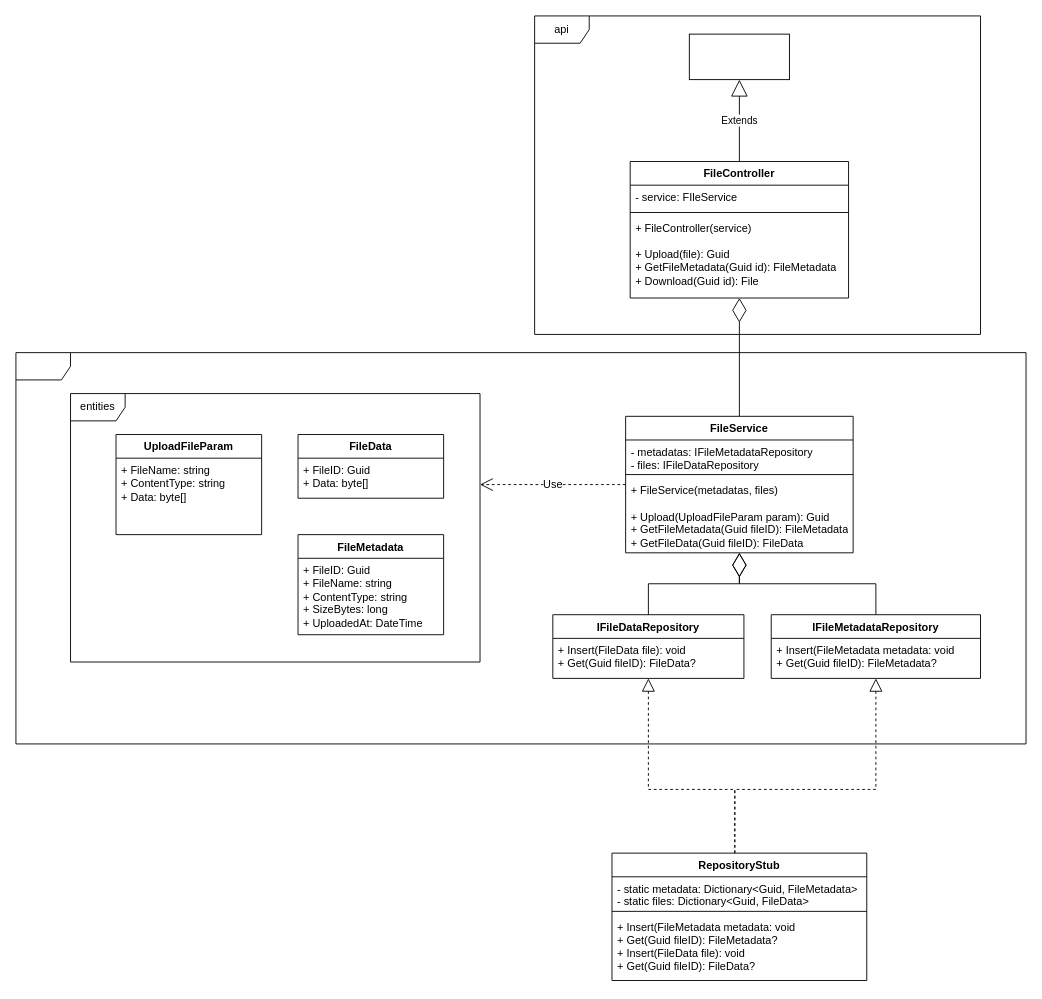
Some shapes in this 1042 by 999 pixel diagram are drawn without their labels. The centre of each missing label's shape, as x and y in pixels:
ControllerBase: the point at 738,56
model: the point at 520,548
